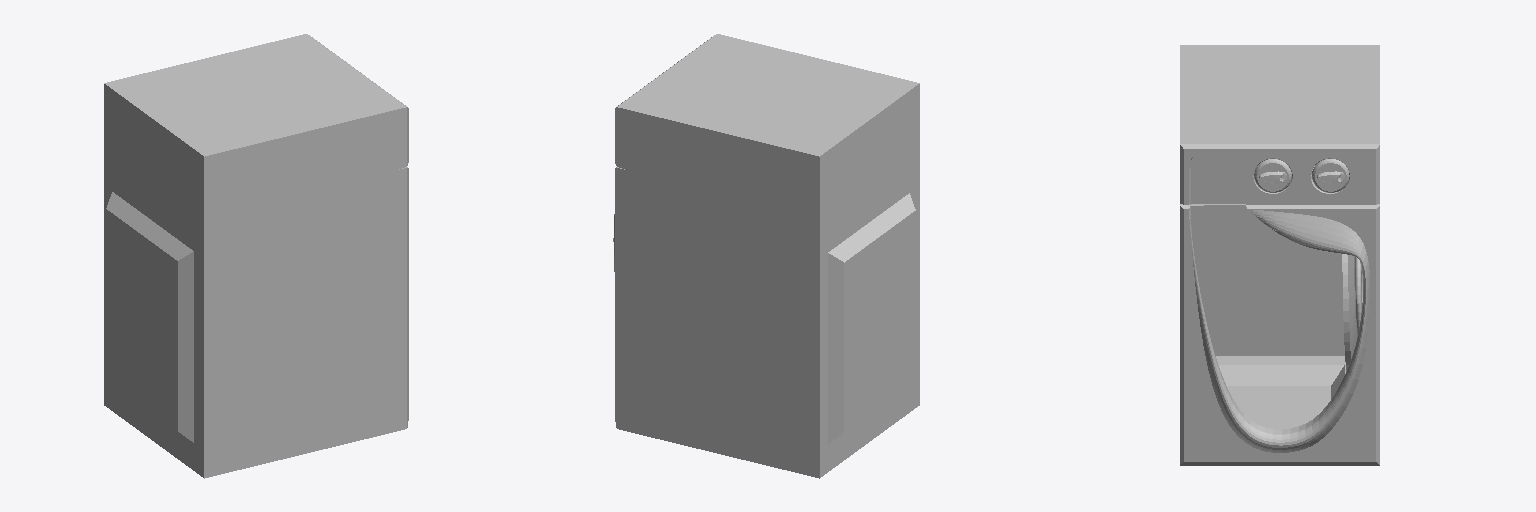
The model's file is microwave_not_glass.obj.
3 views of the same model, side by side, from view 1: azimuth 30°, elevation 25°; view 2: azimuth 150°, elevation 25°; view 3: azimuth 270°, elevation 25° (orthographic).
Parts seen in each view (by area): view 1: obj1, obj3; view 2: obj1, obj3; view 3: obj1, obj3, obj2.
Part boxes in pixels (x1,y1,x2,y2): obj1: (104,34,408,478); obj3: (395,167,408,431); obj1: (615,34,919,478); obj3: (613,167,628,431); obj1: (1180,45,1379,428); obj3: (1180,204,1379,465); obj2: (1342,254,1362,371).
Bounding box in the file's own units: 3.6 × 4.9 × 2.77.